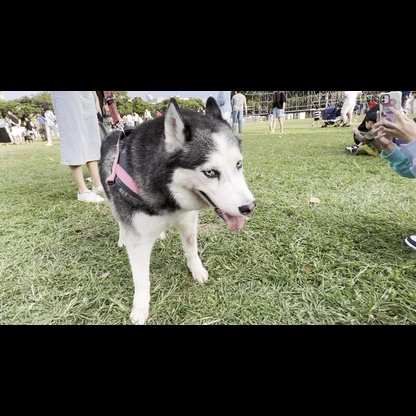husky: (97, 94, 258, 320)
